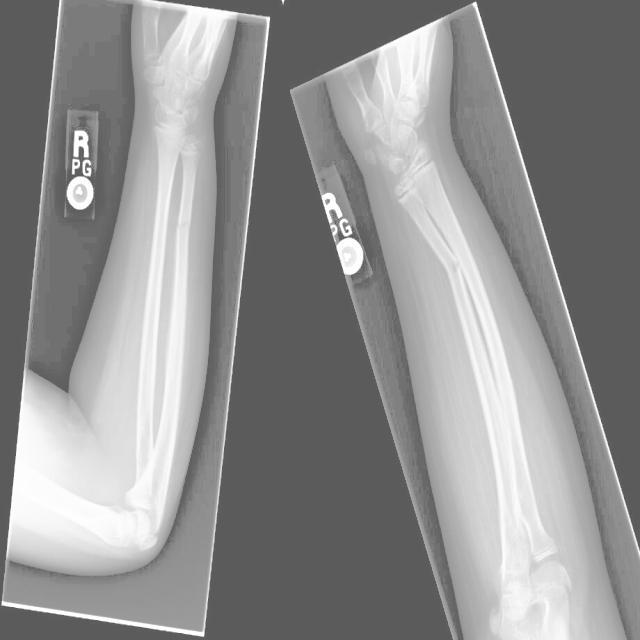GreenStick Fracture: (430, 244, 464, 282), (174, 206, 191, 238)
